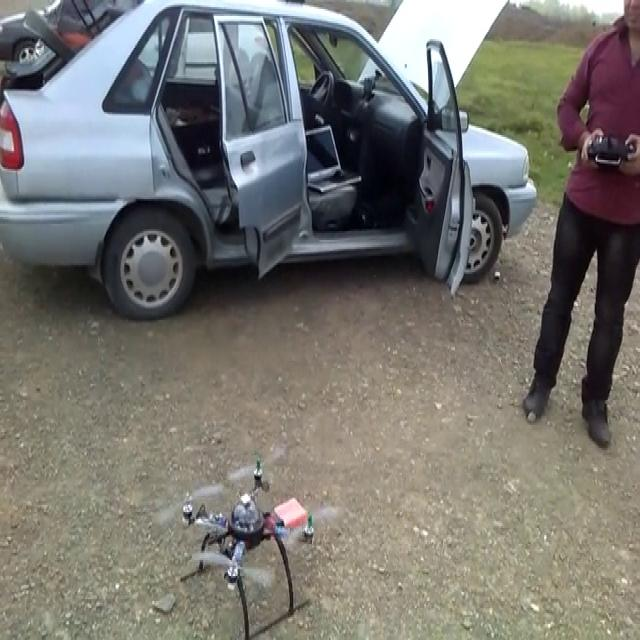drone: (159, 443, 344, 638)
